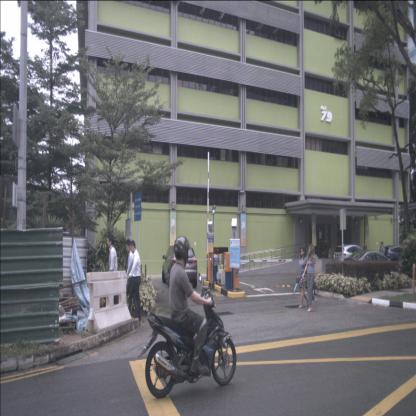human-pedestrian-adult: (126, 240, 142, 322), (301, 243, 318, 313), (122, 239, 136, 318), (293, 247, 310, 308), (107, 235, 118, 323), (380, 241, 386, 267), (379, 242, 385, 268)
movable_object-barrier: (84, 270, 132, 334)
movable_object-trafficcone: (411, 263, 416, 295)
vehicle-car: (162, 244, 198, 291), (344, 250, 396, 278), (332, 244, 371, 268), (382, 245, 412, 265)
vehicle-motorcycle: (138, 236, 237, 398)
